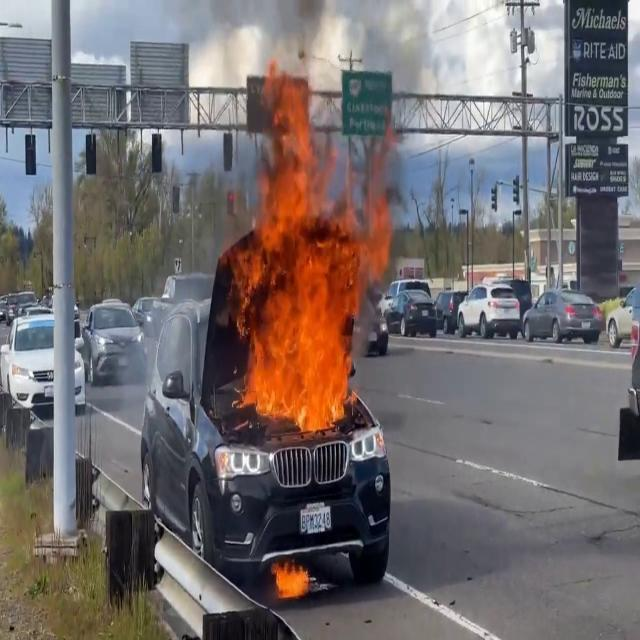Fire: (226, 68, 378, 436)
